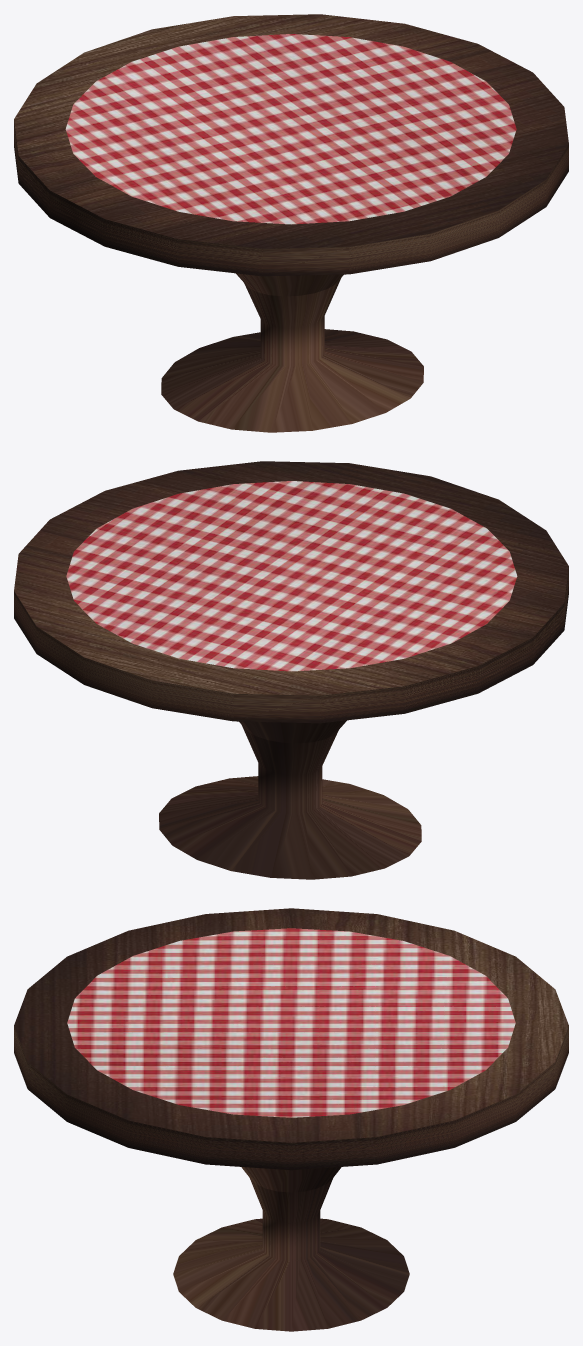
File: Table 1.fbx
3 views of the same model, one above another, from view 1: azimuth 30°, elevation 25°; view 2: azimuth 150°, elevation 25°; view 3: azimuth 270°, elevation 25° (orthographic).
Visible parts, largest first — view 1: pDisc2, pCylinder1, pCylinder2; view 2: pDisc2, pCylinder1, pCylinder2; view 3: pDisc2, pCylinder1, pCylinder2.
Part boxes in pixels (box(x1,y1,x2,y2)): pDisc2: box(65, 34, 516, 224); pCylinder1: box(14, 14, 568, 276); pCylinder2: box(161, 273, 423, 432); pDisc2: box(66, 481, 517, 671); pCylinder1: box(14, 461, 568, 723); pCylinder2: box(159, 720, 421, 879); pDisc2: box(67, 928, 515, 1117); pCylinder1: box(14, 908, 568, 1170); pCylinder2: box(173, 1167, 409, 1331).
Bounding box in the file's own units: 7.29 × 3.63 × 7.29.
